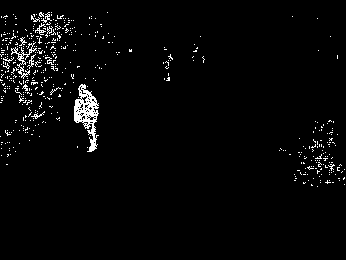person: (73, 84, 100, 154)
